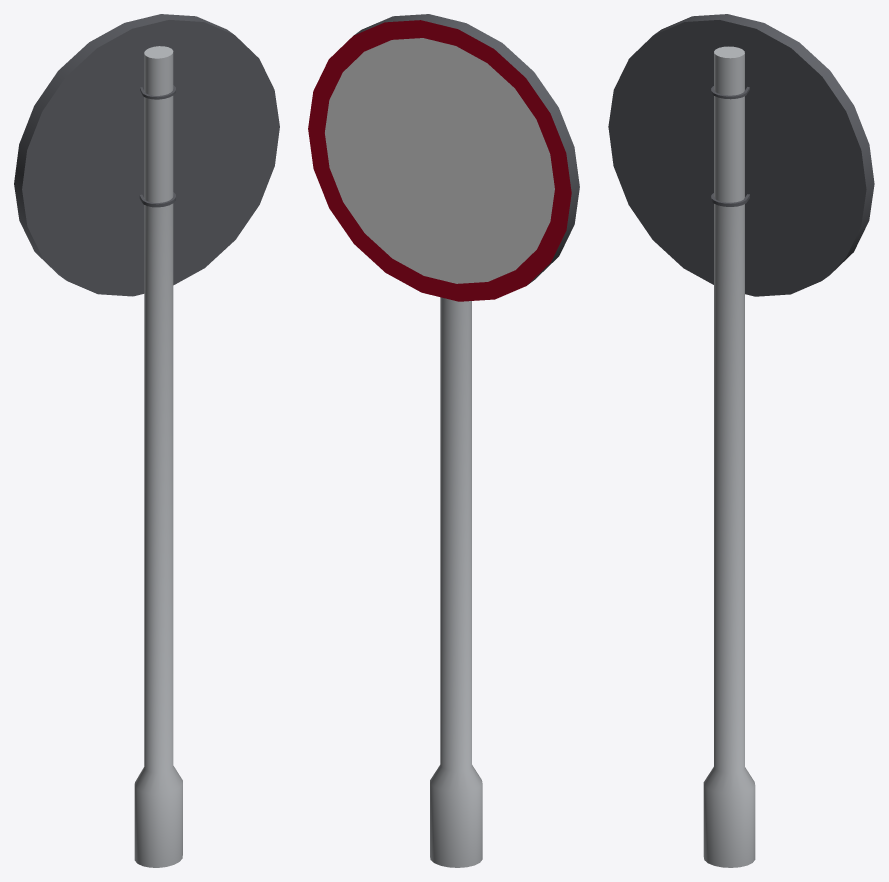
The model's file is Sign1.fbx.
3 renders of one model, left to right at view 1: azimuth 30°, elevation 25°; view 2: azimuth 150°, elevation 25°; view 3: azimuth 330°, elevation 25°, orthographic. The views are drawn at different scales.
Parts seen in each view (by area): view 1: prohibited, Pole001; view 2: prohibited, Pole001; view 3: prohibited, Pole001.
Part boxes in pixels (x1,y1,x2,y2): prohibited: [14, 14, 279, 296]; Pole001: [134, 46, 182, 867]; prohibited: [308, 14, 579, 301]; Pole001: [430, 297, 482, 867]; prohibited: [608, 14, 874, 296]; Pole001: [703, 46, 755, 867].
Bounding box in the file's own units: 18.16 × 55.64 × 3.41.
